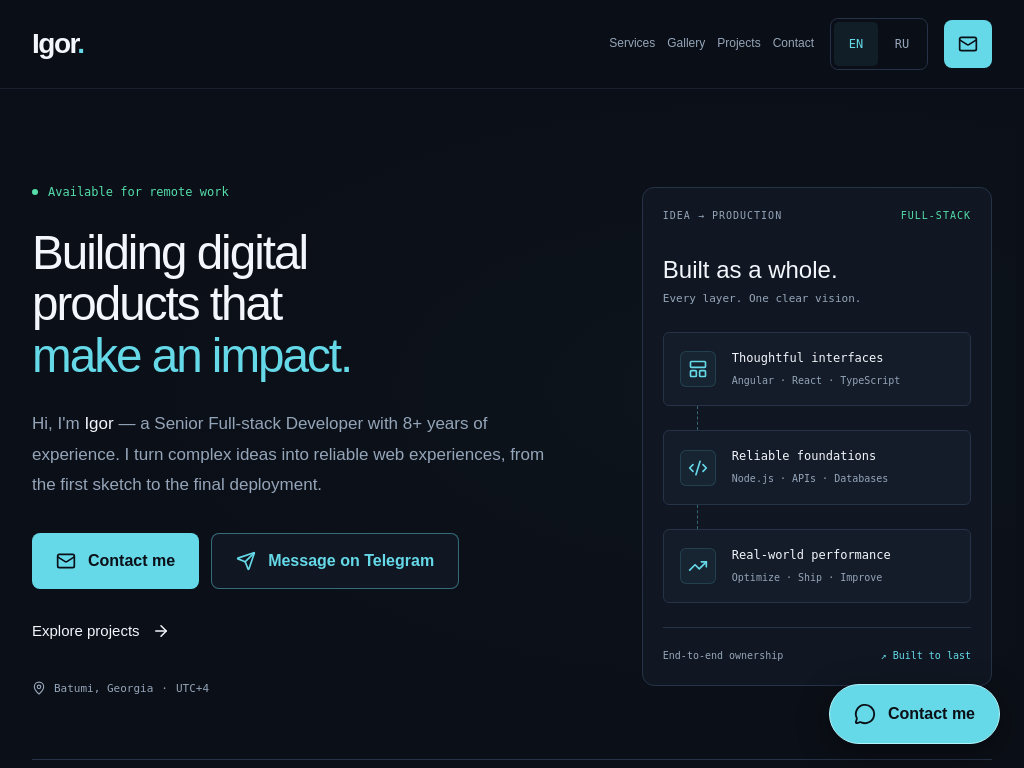
Test: Language selection › still switches languages when browser storage is blocked
Click the button with aria-label "RU — Русский": [902, 44] box [880,22,924,66]
(page scrolled)
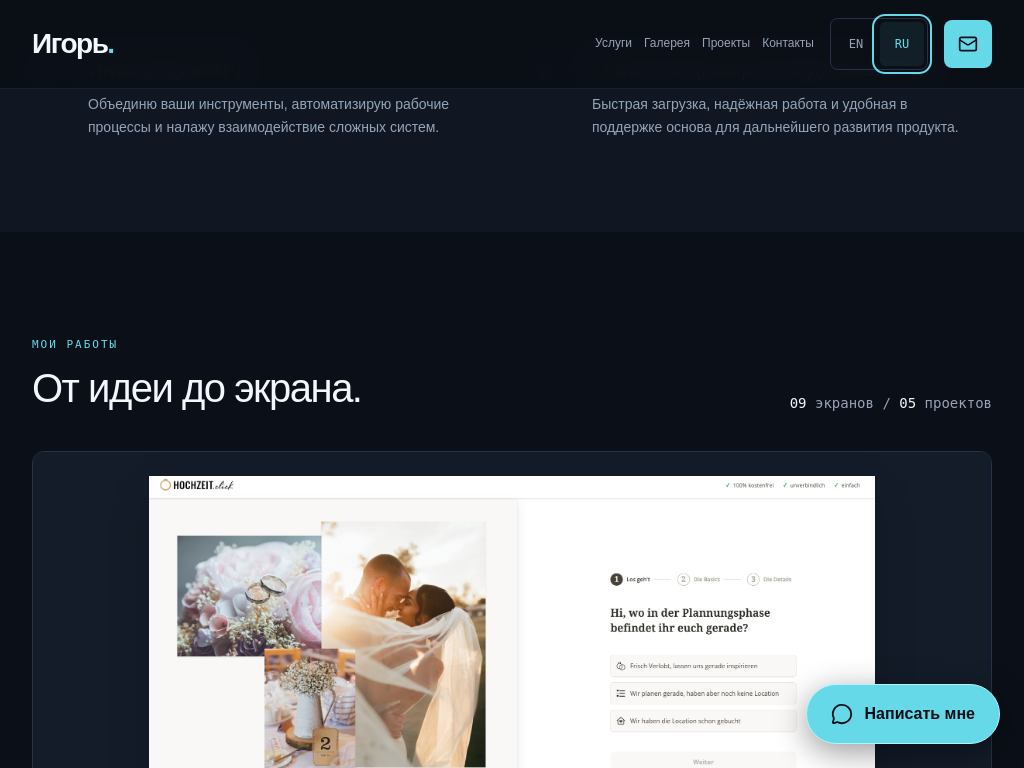
Now the heading "От идеи до экрана." is shown, box [32,365,362,411]
